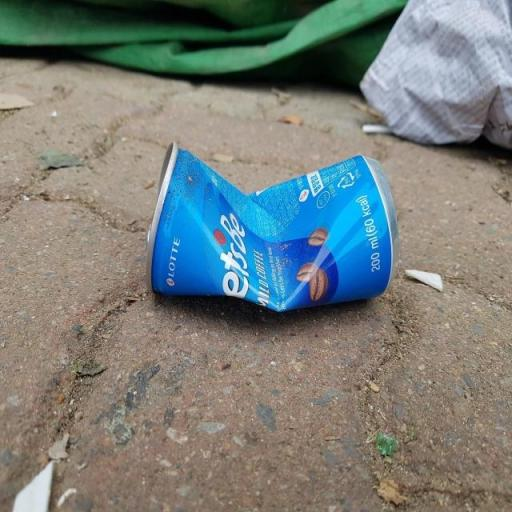metal: (114, 111, 428, 345)
